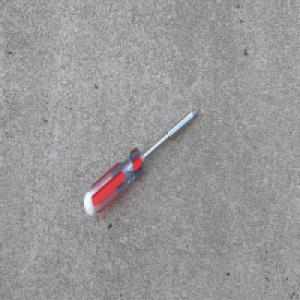Screwdriver: (83, 107, 201, 217)
